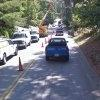Car: (40, 35, 76, 72)
